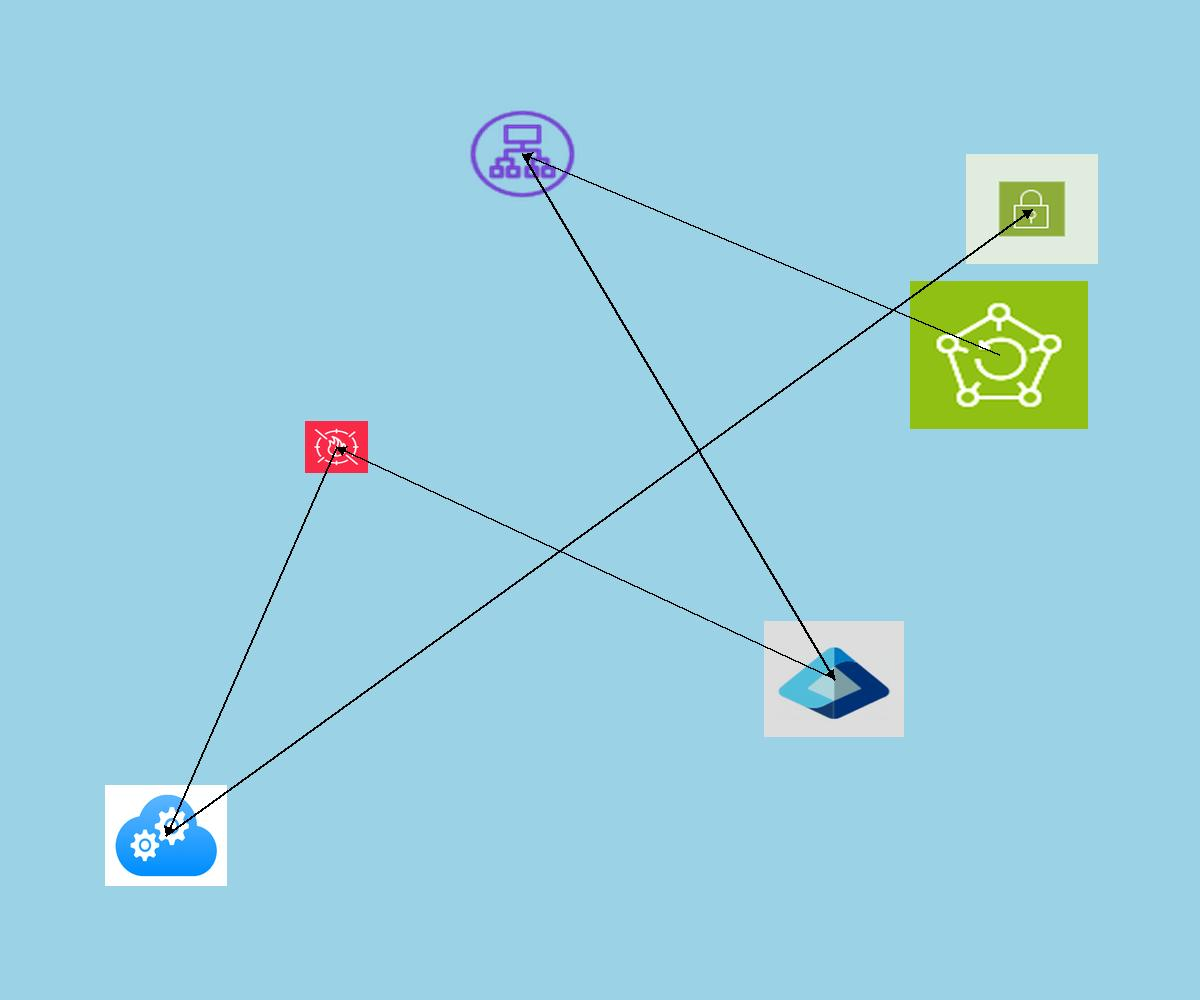AWS-Backup: (910, 281, 1088, 429)
AWS-Public-subnet: (966, 154, 1098, 264)
AWS-Res_Elastic-Load-Balancing_Application-Load-Balancer: (466, 107, 579, 201)
AWS-WAF: (305, 421, 368, 473)
Azure_cloud_services: (105, 785, 227, 886)
Azure_microsoft_entra: (764, 621, 904, 737)
